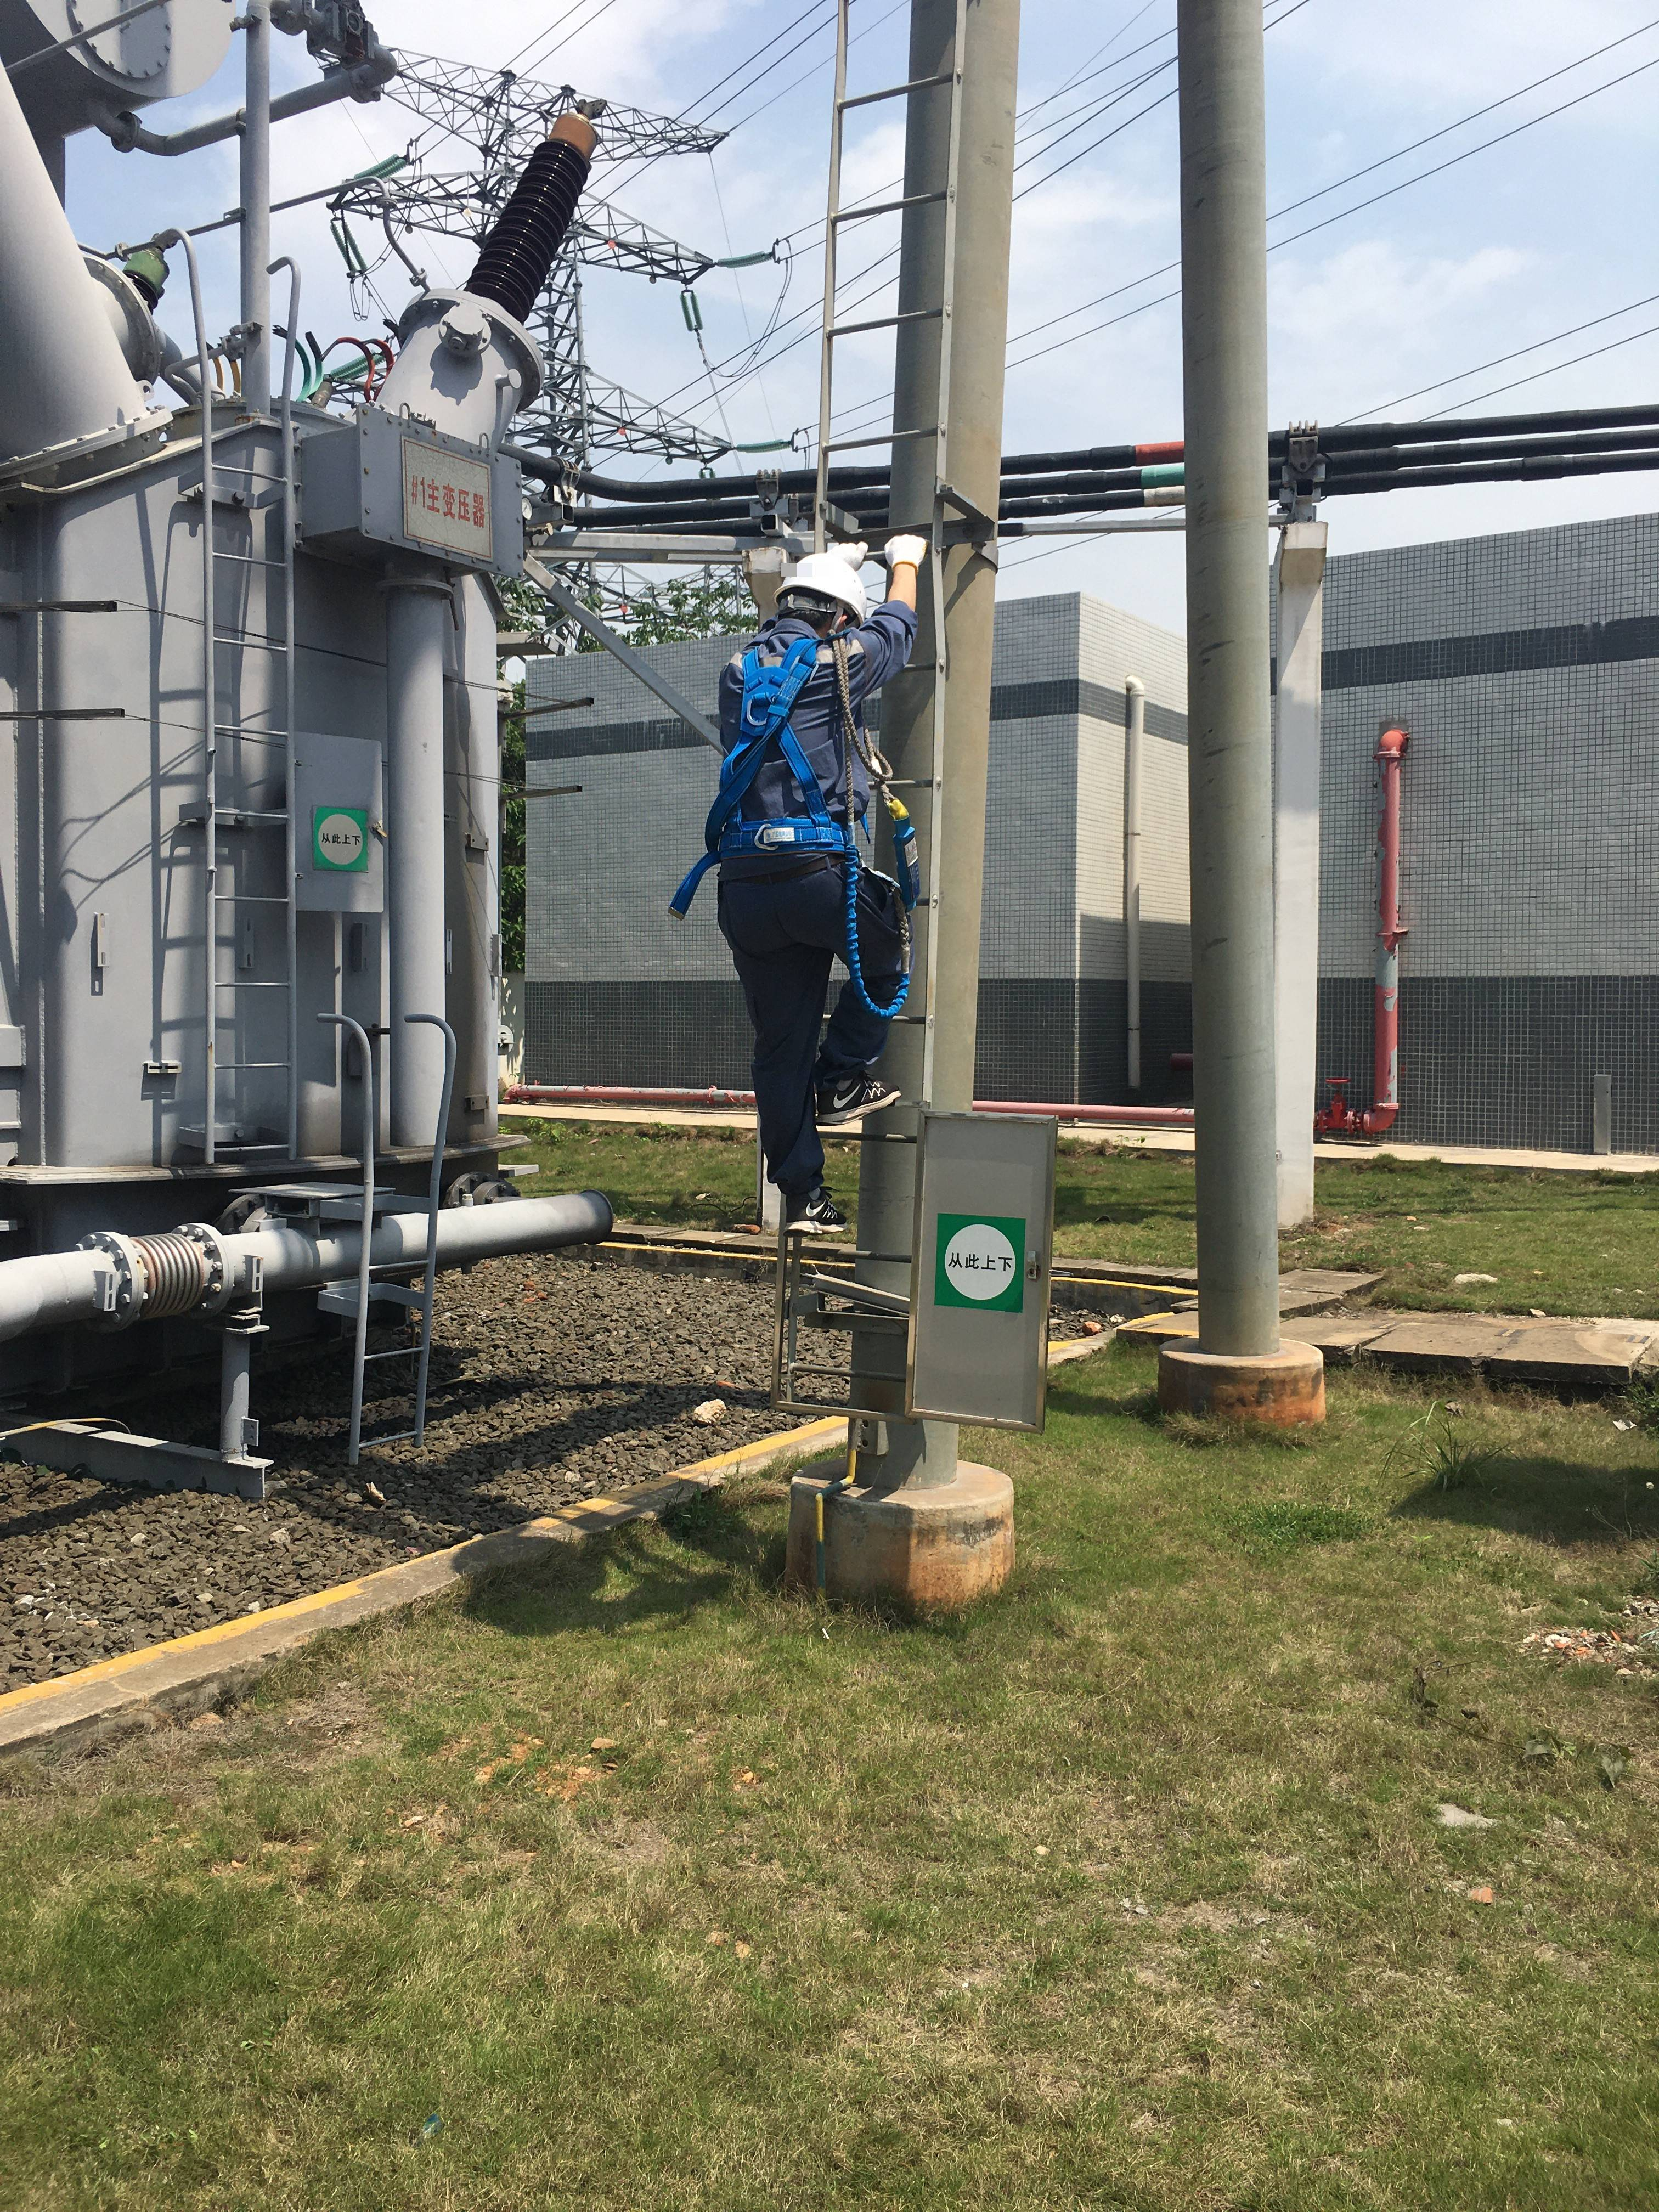downsuit: (701, 874, 892, 1188)
upsuit: (711, 637, 903, 840)
wrongtop: (878, 568, 915, 632)
